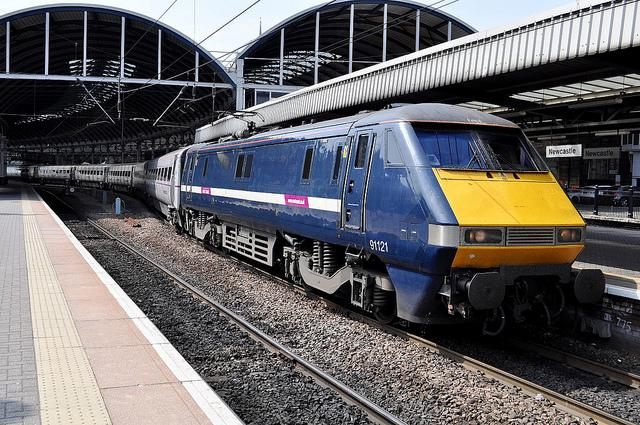Train: (25, 100, 605, 342)
